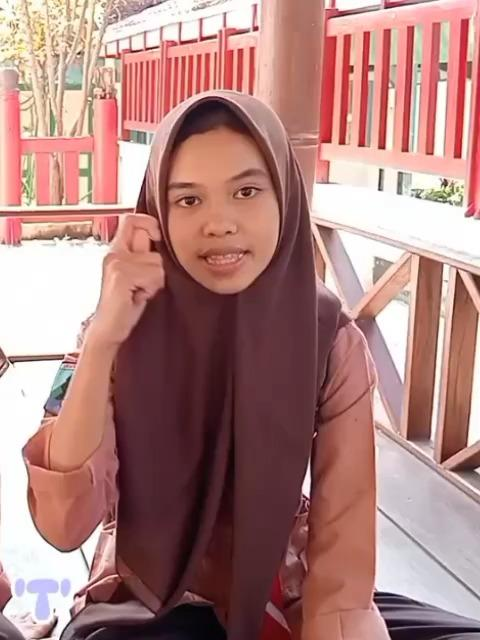T: (93, 210, 168, 344)
